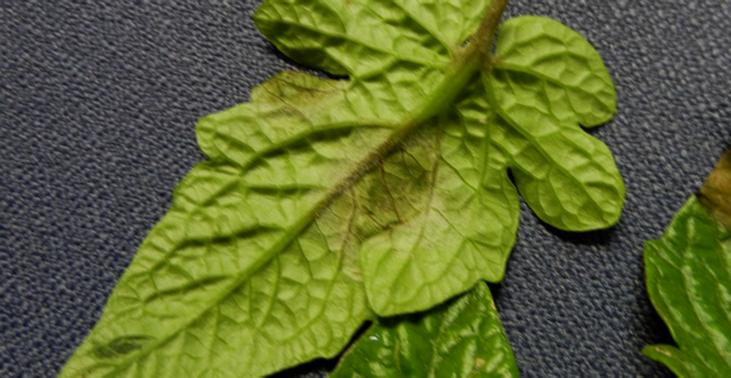Tomato leaf late blight: (17, 0, 627, 378)
